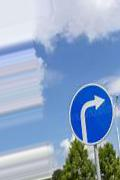right: (68, 82, 114, 146)
